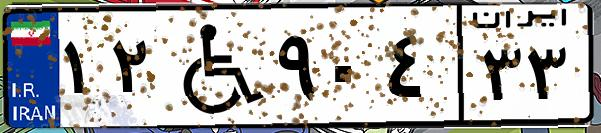0: (330, 28, 385, 110)
1: (57, 26, 110, 100)
2: (110, 28, 158, 98)
3: (475, 38, 525, 113), (525, 38, 570, 115)
4: (385, 28, 445, 110)
9: (270, 28, 330, 110)
ژ (معلولین و جانبازان): (158, 12, 270, 120)
